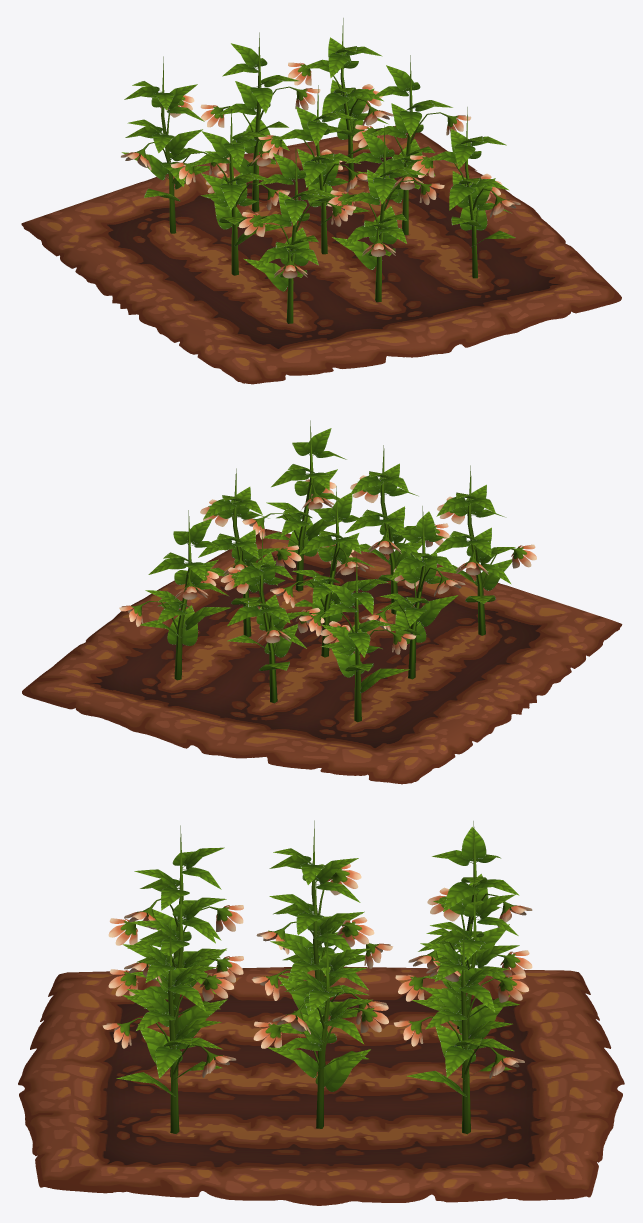
Rendered from BellPepper_Field_Red_Lv2.FBX.
3 views of the same model, one above another, from view 1: azimuth 30°, elevation 25°; view 2: azimuth 150°, elevation 25°; view 3: azimuth 270°, elevation 25° (orthographic). The views are drawn at different scales.
Visible parts, largest first — view 1: BellPepper_Field_Red_Lv2; view 2: BellPepper_Field_Red_Lv2; view 3: BellPepper_Field_Red_Lv2.
Boxes of the visible parts, x1,y1,x2,y2 form: BellPepper_Field_Red_Lv2: (21,18,621,384); BellPepper_Field_Red_Lv2: (22,420,622,784); BellPepper_Field_Red_Lv2: (18,820,624,1205).
Size of the model in its own units: 274 by 114 by 296.
